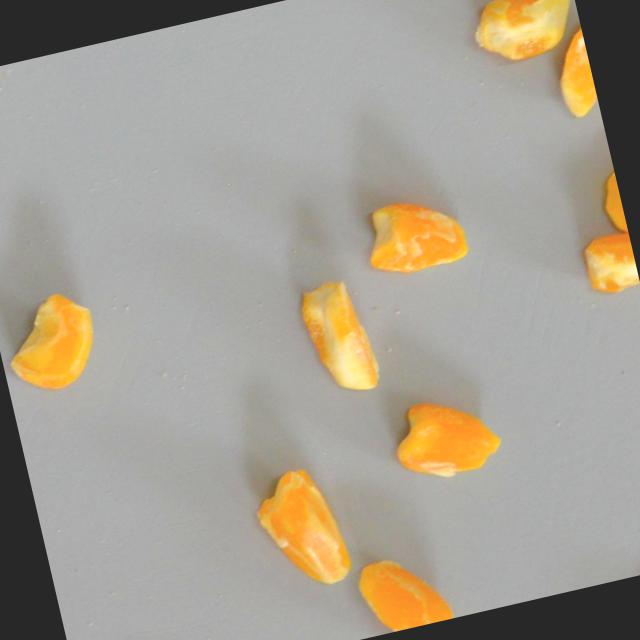estandar: (578, 223, 640, 320)
pelicula: (0, 274, 133, 406), (241, 452, 360, 599), (384, 385, 508, 503), (292, 269, 390, 403), (356, 181, 477, 283), (348, 538, 459, 638), (460, 0, 587, 78), (539, 11, 601, 122), (590, 155, 630, 246)
